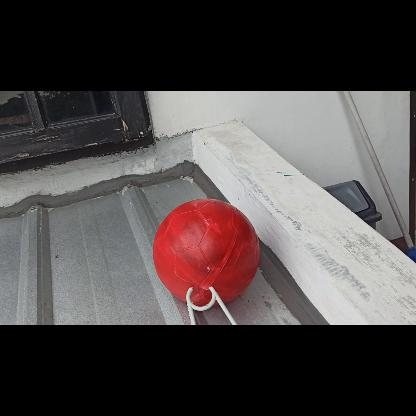red_ball: (153, 199, 259, 305)
